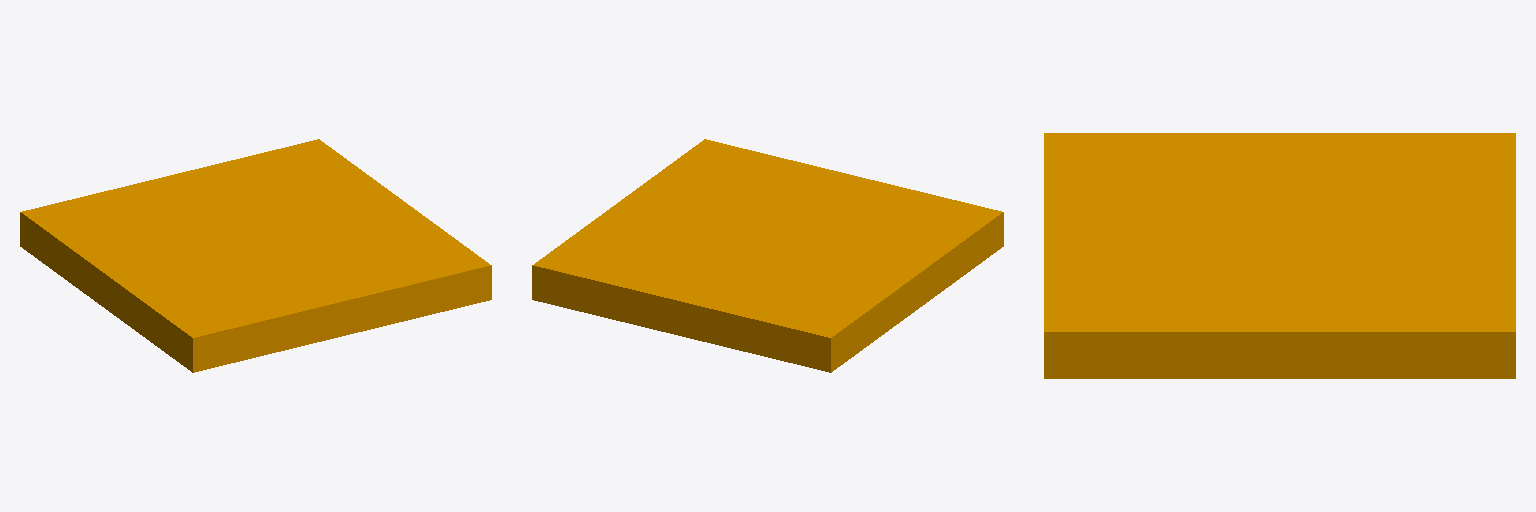
The robot description file, URDF, robot "marker":
<?xml version="1.0"?>
<robot name="marker" xmlns:xacro="http://www.ros.org/wiki/xacro">
    <link name="base_link" type="fixed">
        <visual>
            <geometry>
                <mesh filename="package://marker/urdf/armarker_40.dae"/>
            </geometry>
        </visual>
        <inertial>
            <origin xyz="0 0 0" rpy="0 0 0"/>
            <mass value="1"/>
            <inertia
                ixx="1.0" ixy="0.0" ixz="0.0"
                iyy="1.0" iyz="0.0"
                izz="1.0"/>
        </inertial>
    </link>
</robot>

--- What the picture shows (computed from the rendered views, not written in the file) ---
3 views of the same robot in one strip: view 1: azimuth 30°, elevation 25°; view 2: azimuth 150°, elevation 25°; view 3: azimuth 270°, elevation 25° (orthographic).
Model marker with 1 links and 0 joints (none), rooted at base_link, posed all joints at 0.
Visible links, largest first — view 1: base_link; view 2: base_link; view 3: base_link.
Boxes of the visible links, left/top/right/bottom form: base_link: left=20, top=139, right=491, bottom=372; base_link: left=532, top=139, right=1003, bottom=372; base_link: left=1044, top=133, right=1515, bottom=378.
Bounding box of the posed robot: 0.09 × 0.09 × 0.01 m (x, y, z).
1 mesh visuals loaded from 1 distinct referenced files (1 Collada DAE).